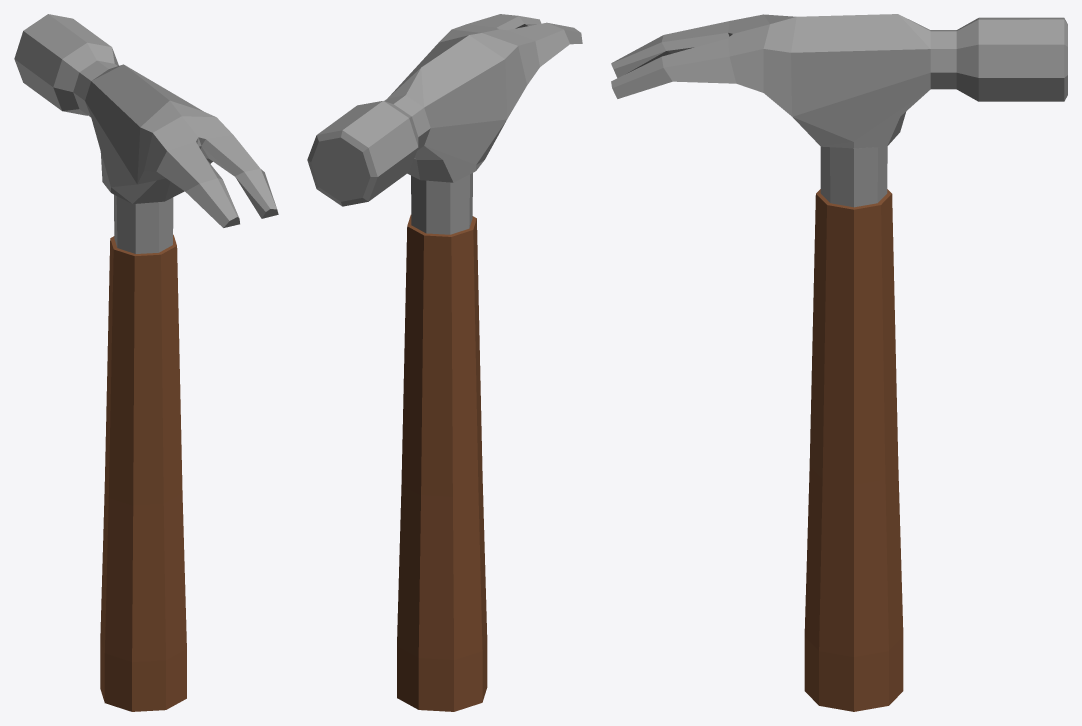
The model's file is hammer05.obj.
The picture shows the model from 3 angles, left to right: view 1: azimuth 30°, elevation 25°; view 2: azimuth 150°, elevation 25°; view 3: azimuth 270°, elevation 25°; orthographic projection. The views are drawn at different scales.
Parts seen in each view (by area): view 1: Cylinder; view 2: Cylinder; view 3: Cylinder.
Part boxes in pixels (x1,y1,x2,y2): Cylinder: (14,14,278,711); Cylinder: (307,14,582,711); Cylinder: (611,14,1067,711).
Size of the model in its own units: 0.0271 by 0.1959 by 0.1198.
1 material, 1 textured.
